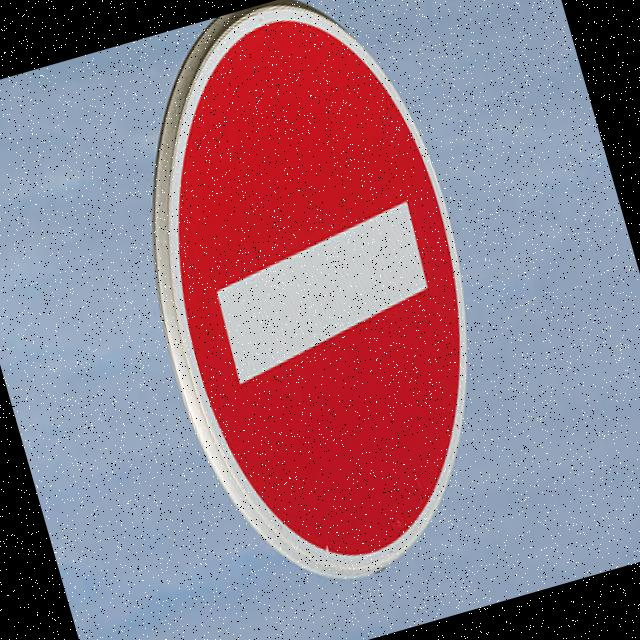do_not_enter: (89, 0, 564, 618)
